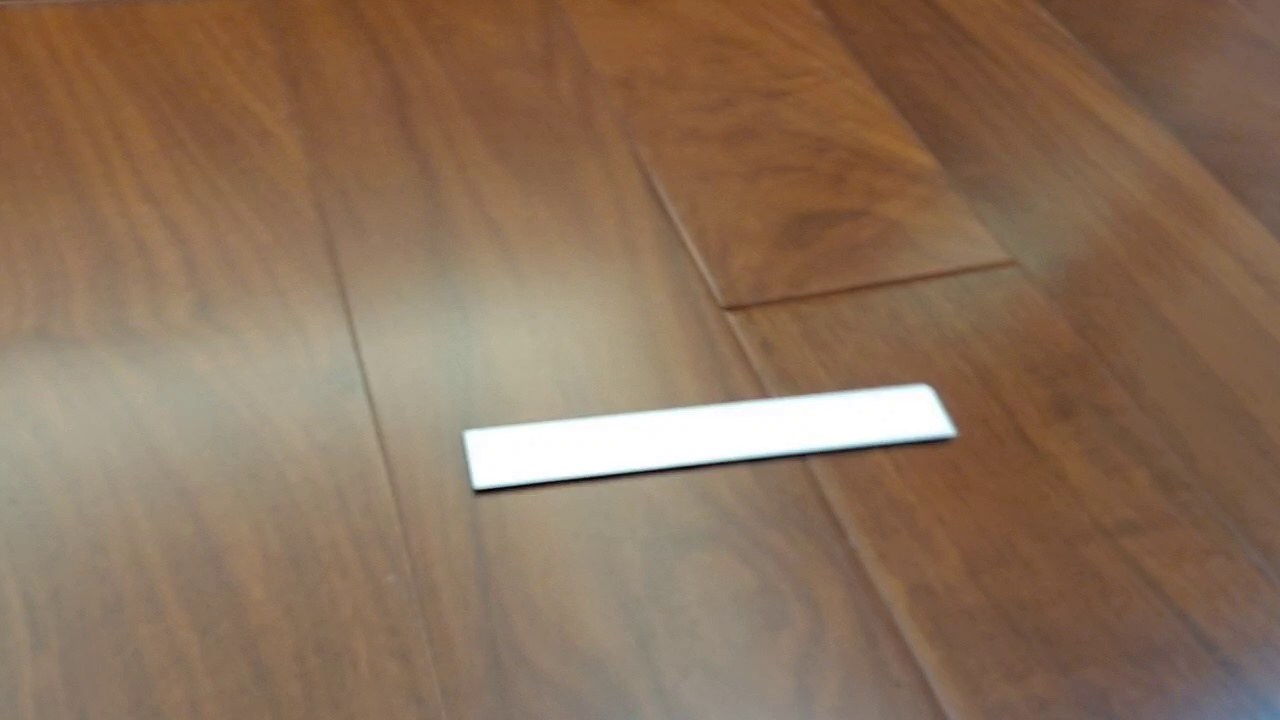ruler: (460, 381, 961, 496)
